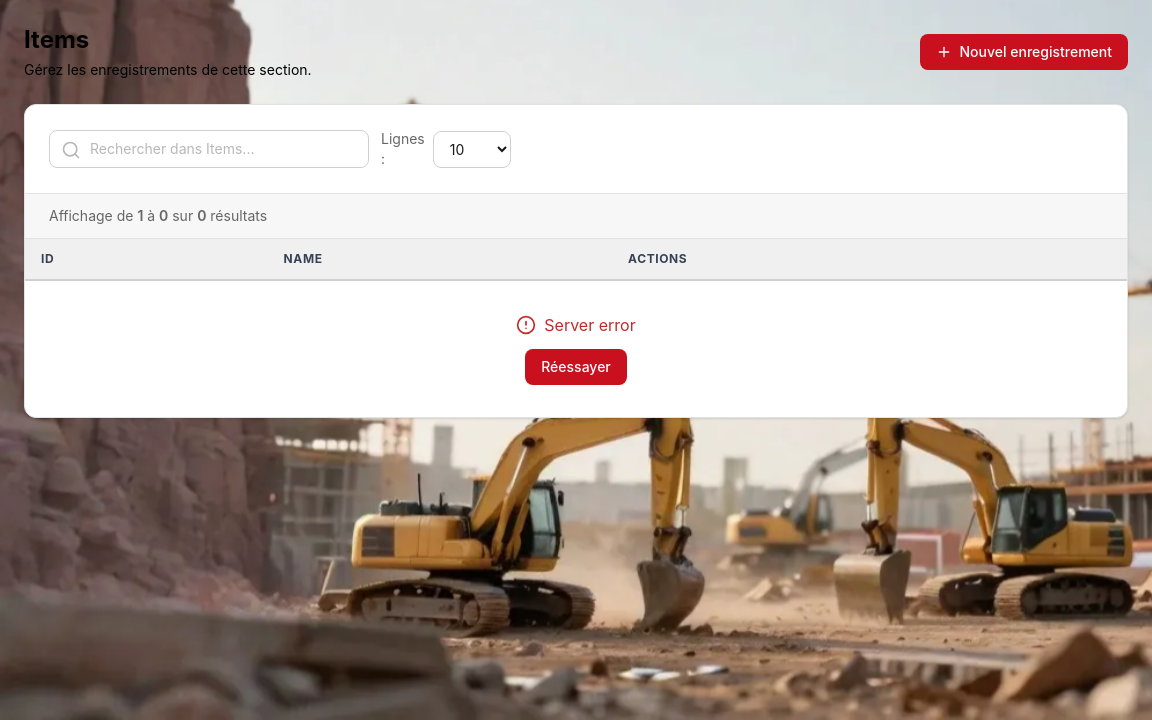
Test case: CrudPage.tsx › renders an error state from a failed initial load with a retry button
Expected: the text "Server error" is shown, x1=544 y1=313 x2=636 y2=337
Click the button "Réessayer": (576, 367) x1=525 y1=349 x2=627 y2=385
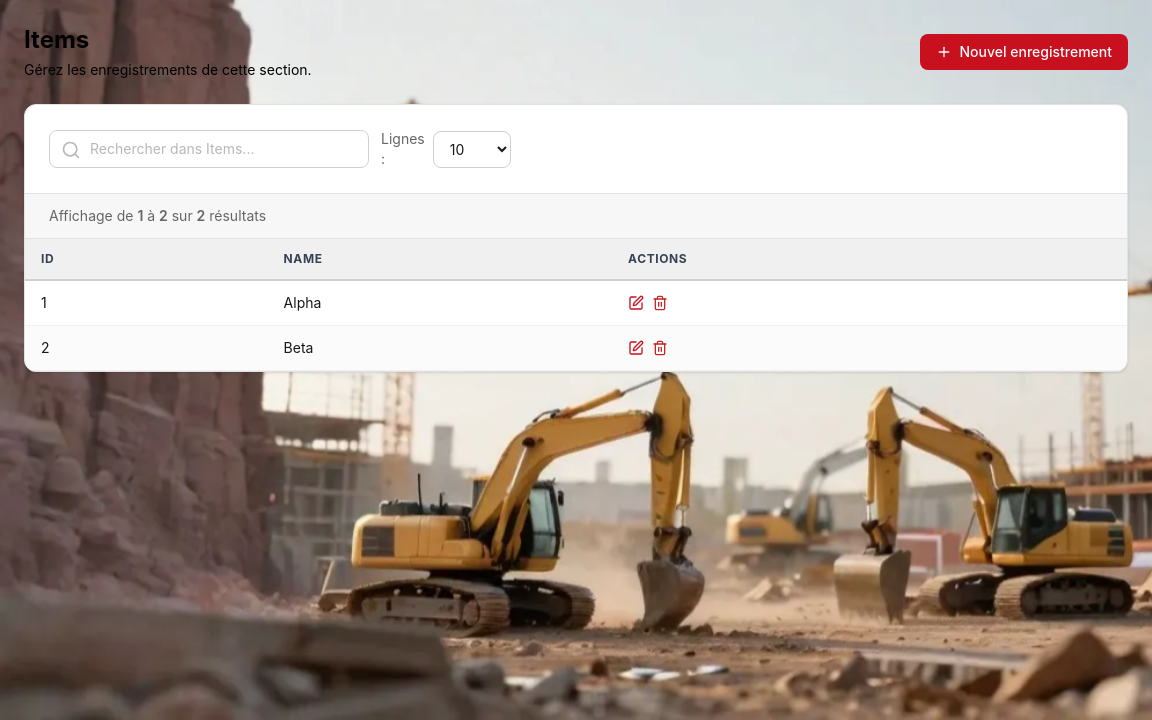
Now the text "Alpha" is shown, box x1=268 y1=280 x2=612 y2=326
